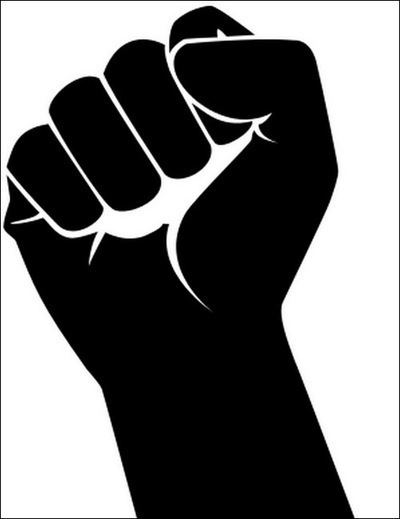closedhandfront: (6, 9, 339, 359)
